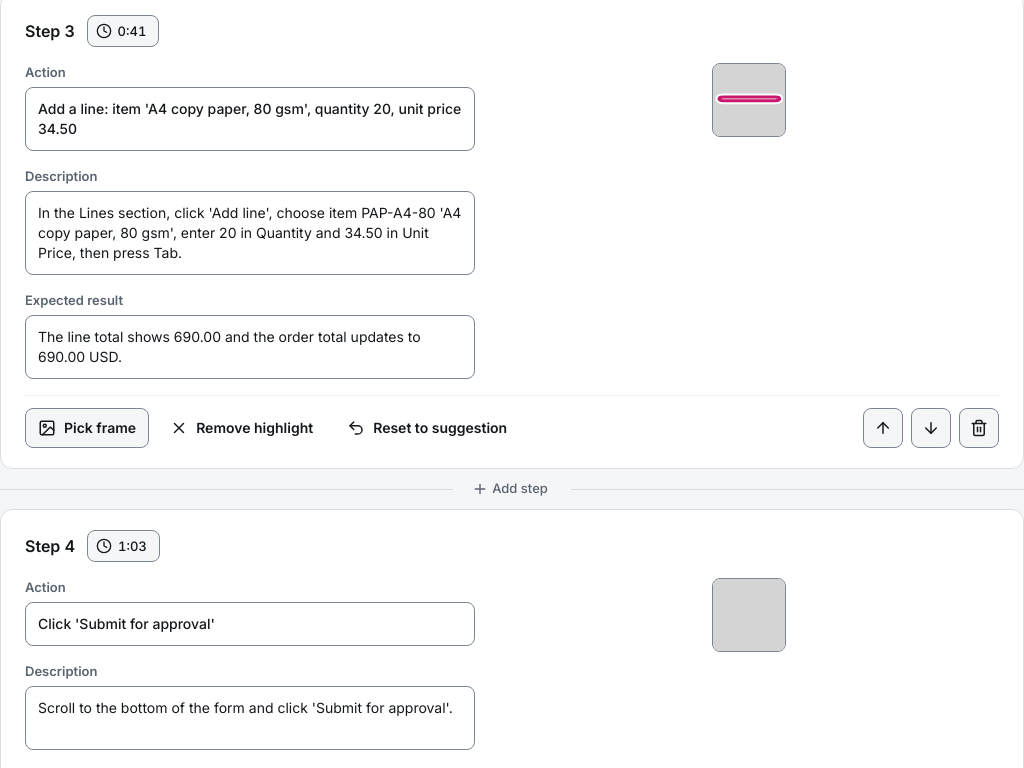
Test: StepList › delete: inline row at the deleted index, focus on Undo, announced
Later steps or results of the test are not shown.
(page scrolled)
Click the button named "Delete step 3" at (979, 428), box [959,408,999,448]
Wait 100 ms
(page scrolled)
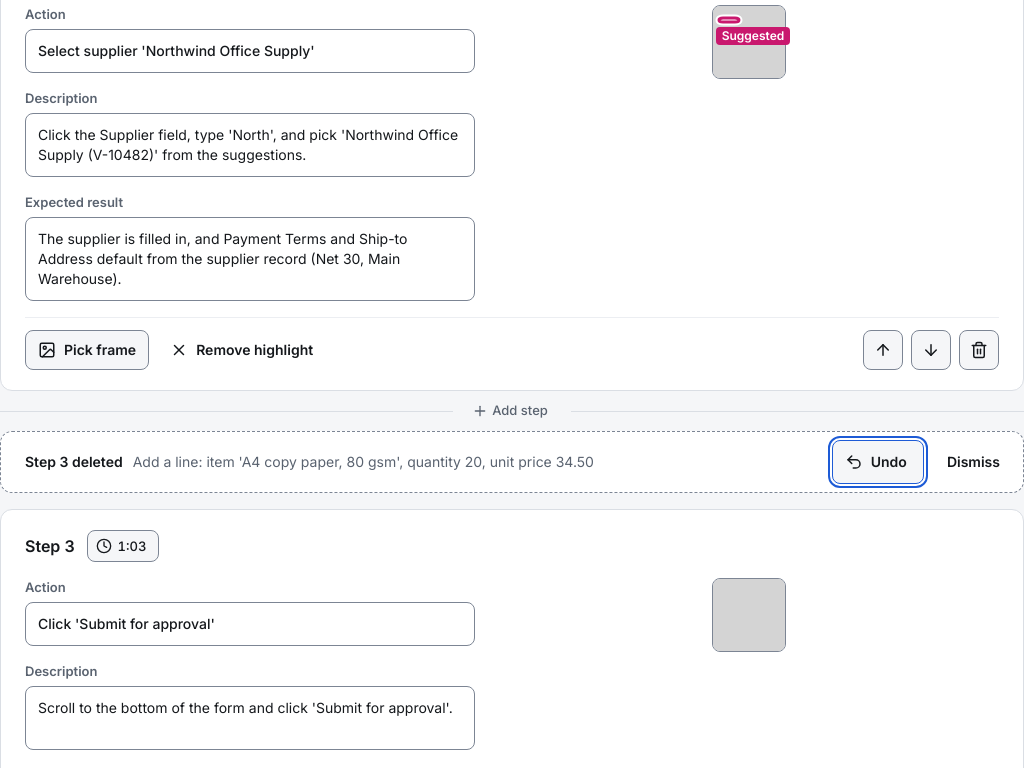
Check: the 2nd list item shows "Step 3 deleted", box [0,431,1023,505]
Check: the 2nd list item shows "Add a line: item 'A4 copy paper, 80 gsm', quantity 20, unit price 34.50", box [133,453,594,470]
